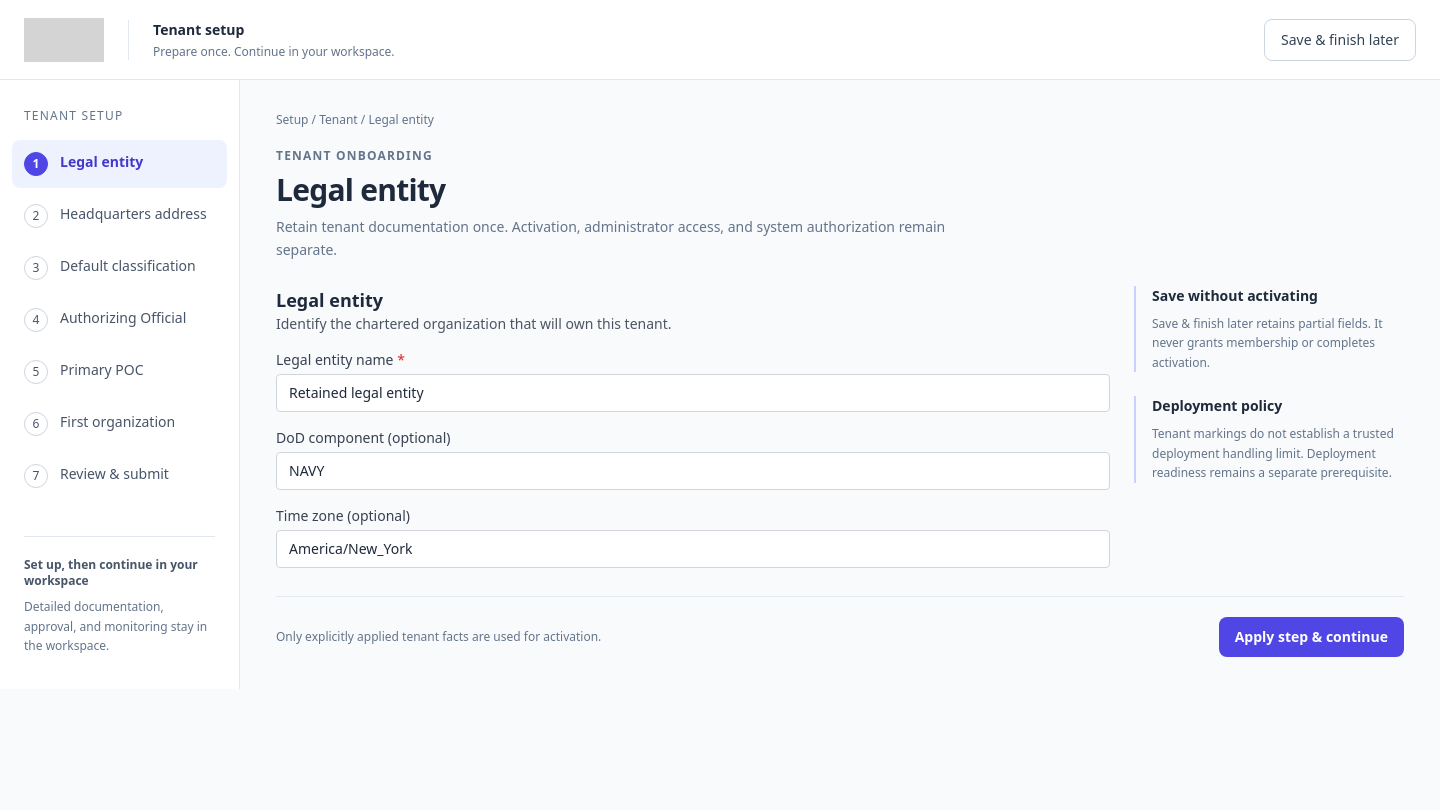
Scenario: tenant activation domain draft › surfaces Authorizing Official submission errors without leaving the step
The width and height of the screenshot is (1440, 810).
Expected: the field showing "Retained legal entity" is shown, 276,374 -> 1110,412
Click the button "4 Authorizing Official" at (120, 320), box 12,296 -> 227,344
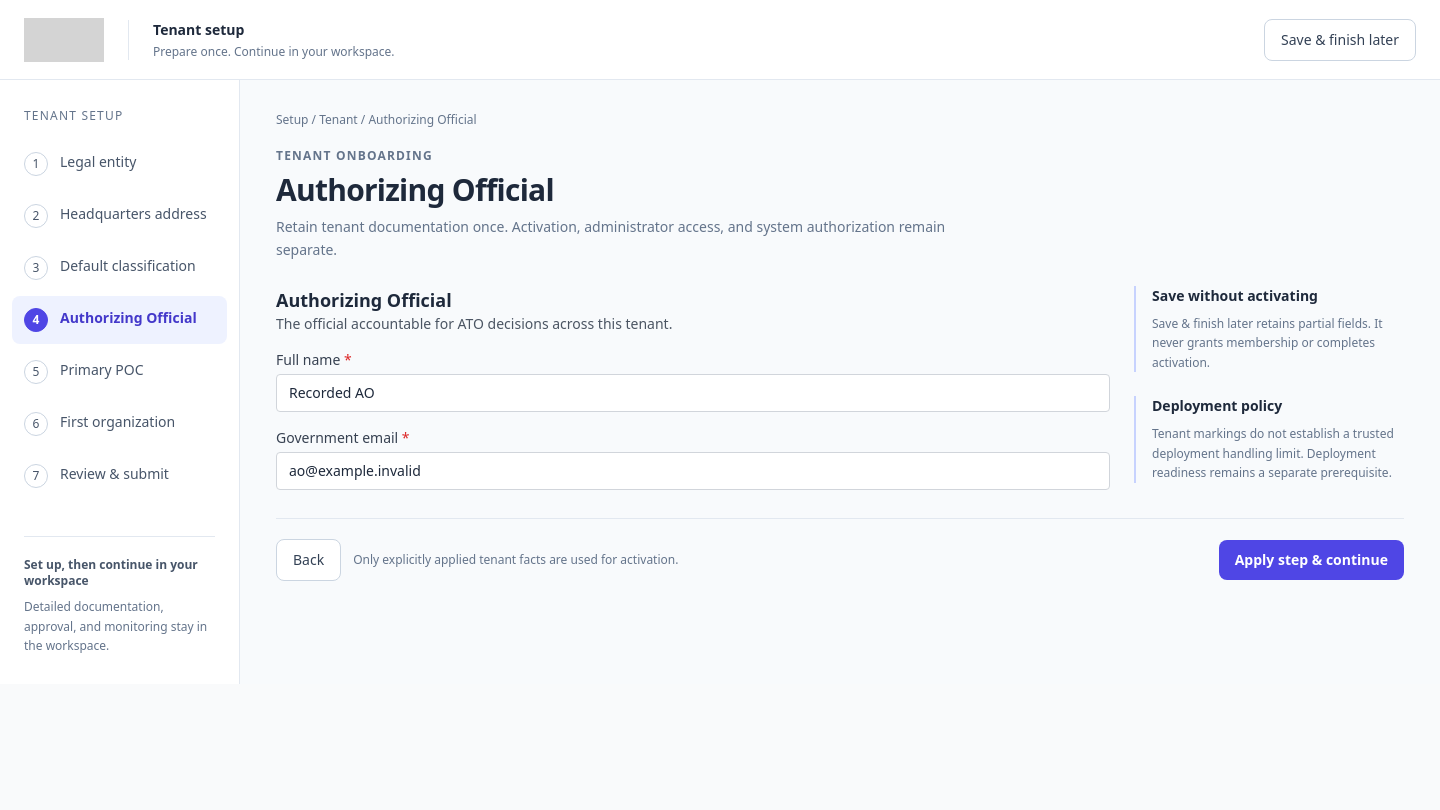
Click the button "Apply step & continue" at (1311, 560), box 1219,540 -> 1404,580
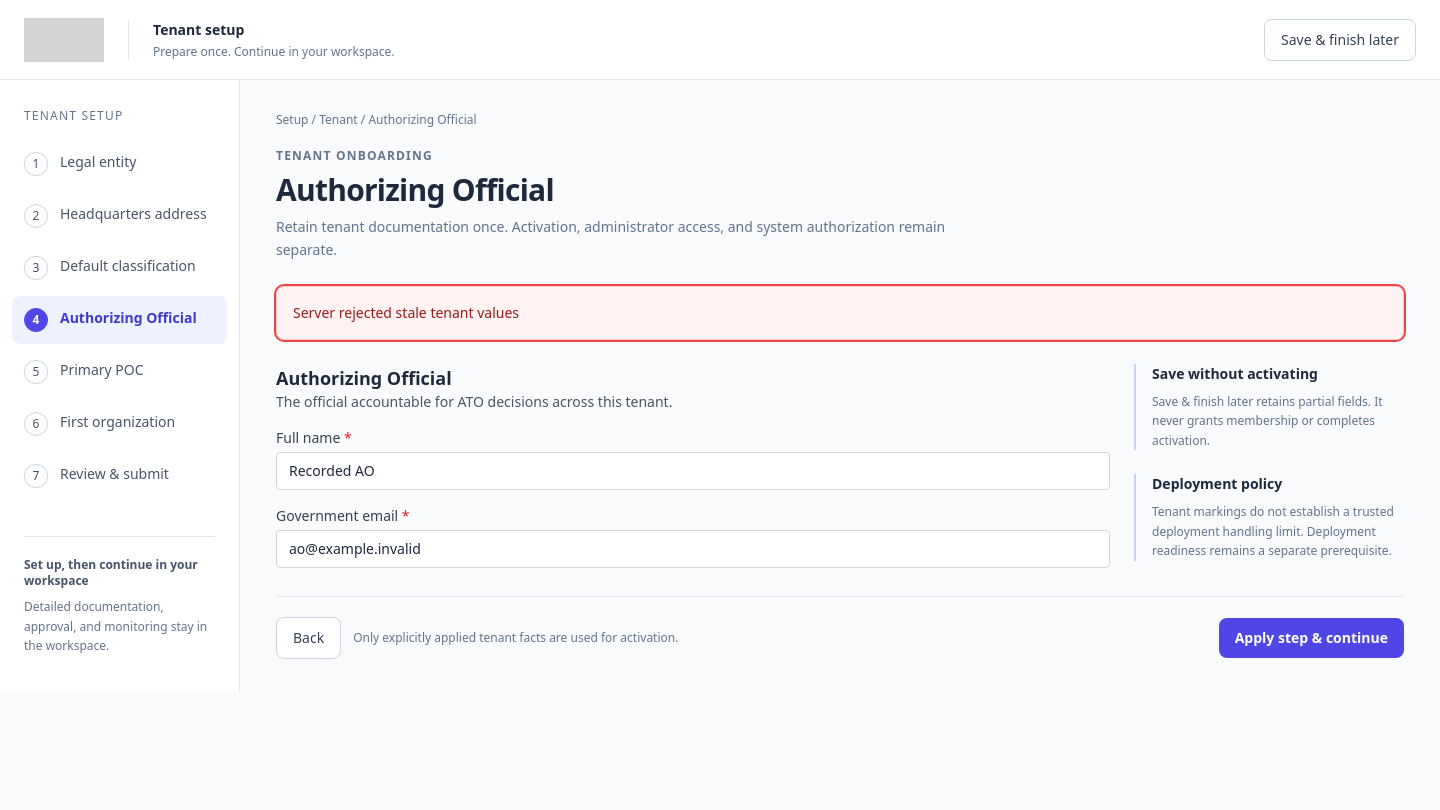
Now the heading "Authorizing Official" below "Tenant onboarding" is shown, box 276,169 -> 554,210
Now the text "Server rejected stale tenant values" is shown, box 276,286 -> 1404,340
